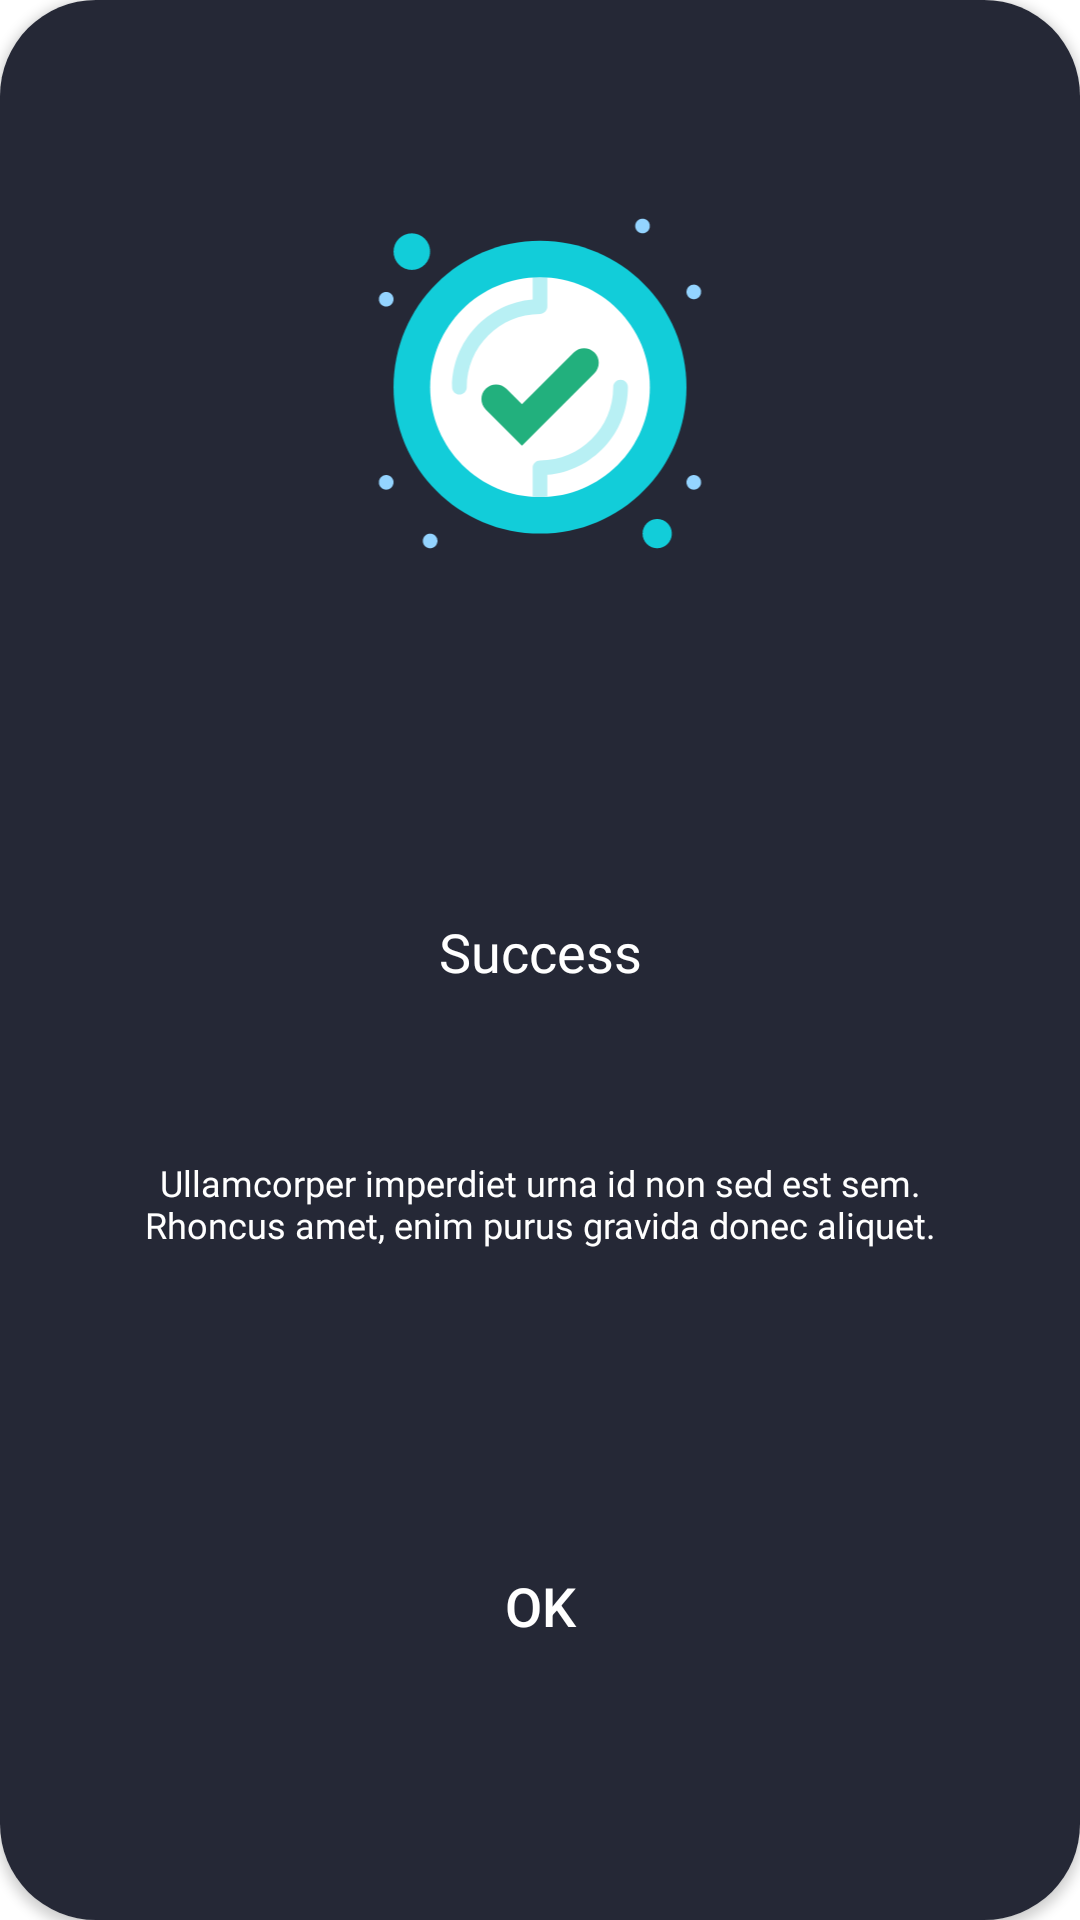

Named icons in this screenshot (1080*1920) and their centers, (x=x, y=y):
Dialog state icon on the dialog: (x=540, y=383)
